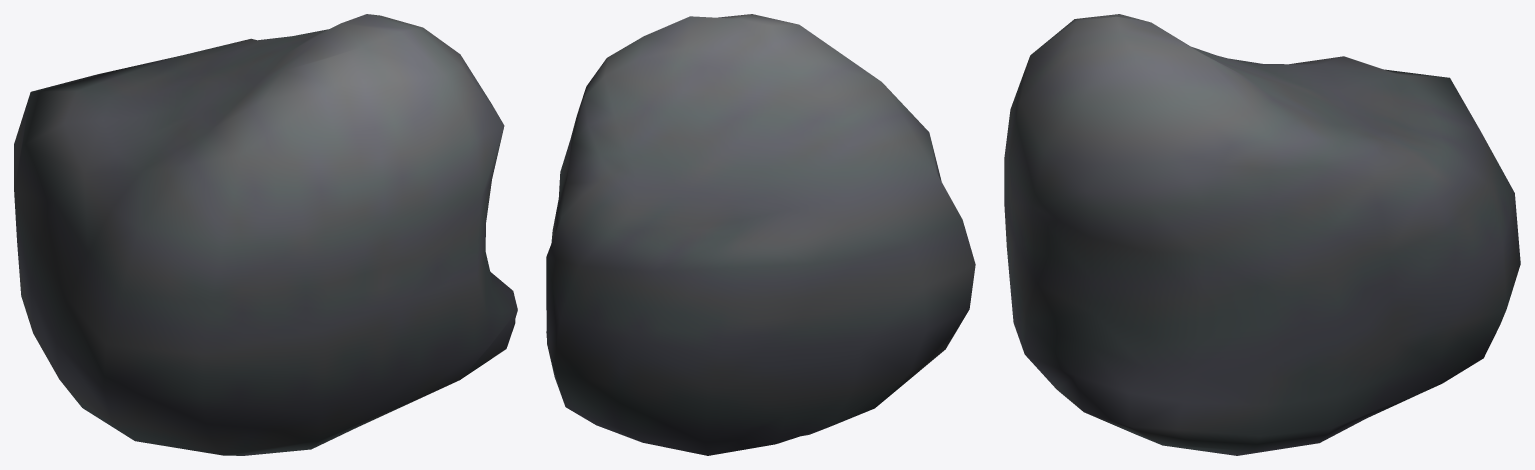
File: M_Environment_StoneM_04.fbx
The picture shows the model from 3 angles, left to right: view 1: azimuth 30°, elevation 25°; view 2: azimuth 150°, elevation 25°; view 3: azimuth 270°, elevation 25°; orthographic projection. The views are drawn at different scales.
Visible parts, largest first — view 1: M_Environment_StoneM_04; view 2: M_Environment_StoneM_04; view 3: M_Environment_StoneM_04.
Part boxes in pixels (box(x1,y1,x2,y2)): M_Environment_StoneM_04: box(14, 14, 517, 455); M_Environment_StoneM_04: box(546, 14, 975, 455); M_Environment_StoneM_04: box(1004, 14, 1520, 455).
Size of the model in its own units: 560 by 503 by 593.
Materials: 1 (1 with a texture image).
